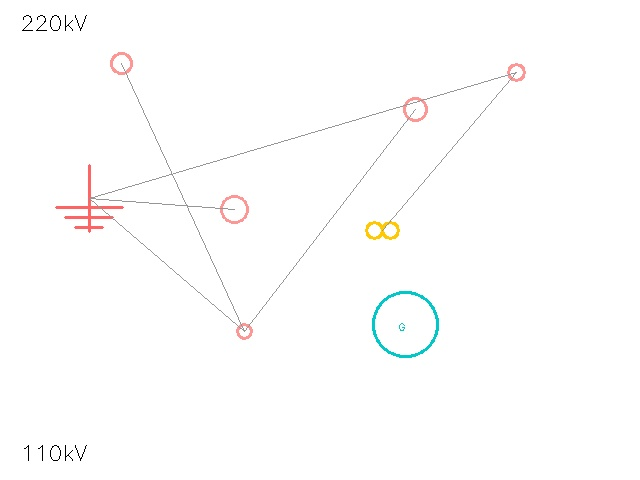current_transformer: (500, 56, 532, 88)
feeder_terminal: (100, 42, 142, 84)
generator: (373, 292, 437, 356)
ground: (56, 165, 122, 231)
load_break_switch: (392, 86, 438, 132)
reactor: (229, 316, 259, 346)
surge_arrester: (207, 182, 261, 236)
transformer_2w: (362, 210, 402, 250)
